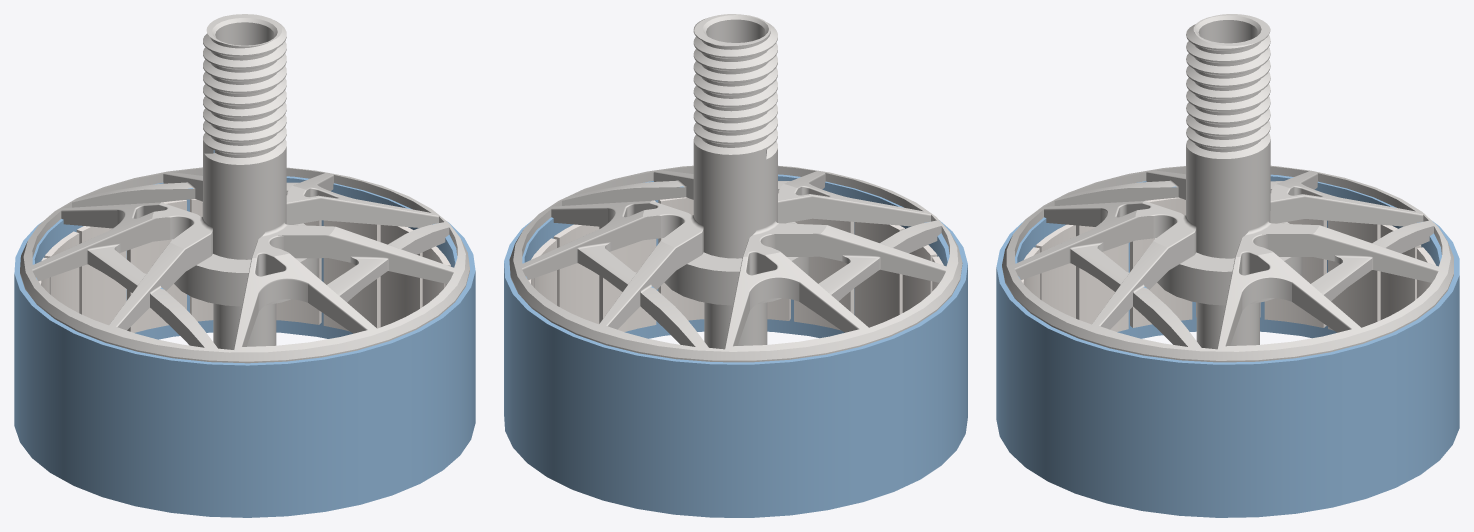
Rendered from rotar.glb.
The picture shows the model from 3 angles, left to right: view 1: azimuth 30°, elevation 25°; view 2: azimuth 150°, elevation 25°; view 3: azimuth 270°, elevation 25°; orthographic projection.
Visible parts, largest first — view 1: motor_upper; view 2: motor_upper; view 3: motor_upper.
Boxes of the visible parts, x1,y1,x2,y2 form: motor_upper: (14, 14, 475, 517); motor_upper: (504, 14, 967, 517); motor_upper: (996, 14, 1459, 517).
Size of the model in its own units: 0.0543 by 0.0604 by 0.0542.
